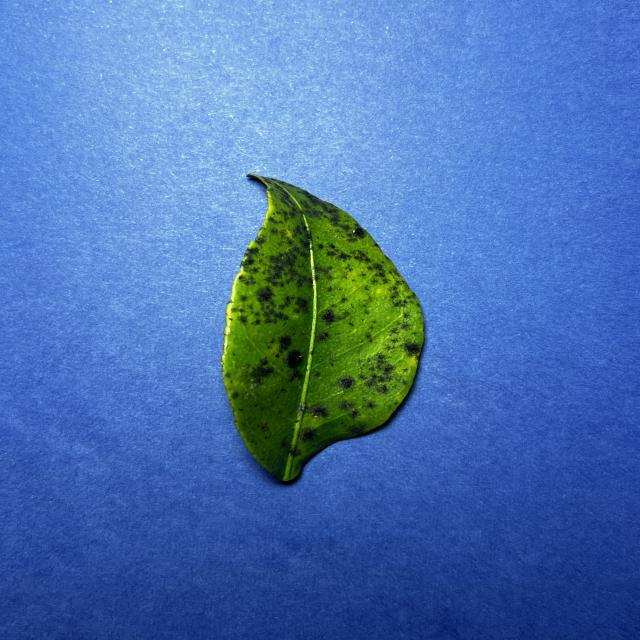sooty_mold: (222, 174, 423, 480)
